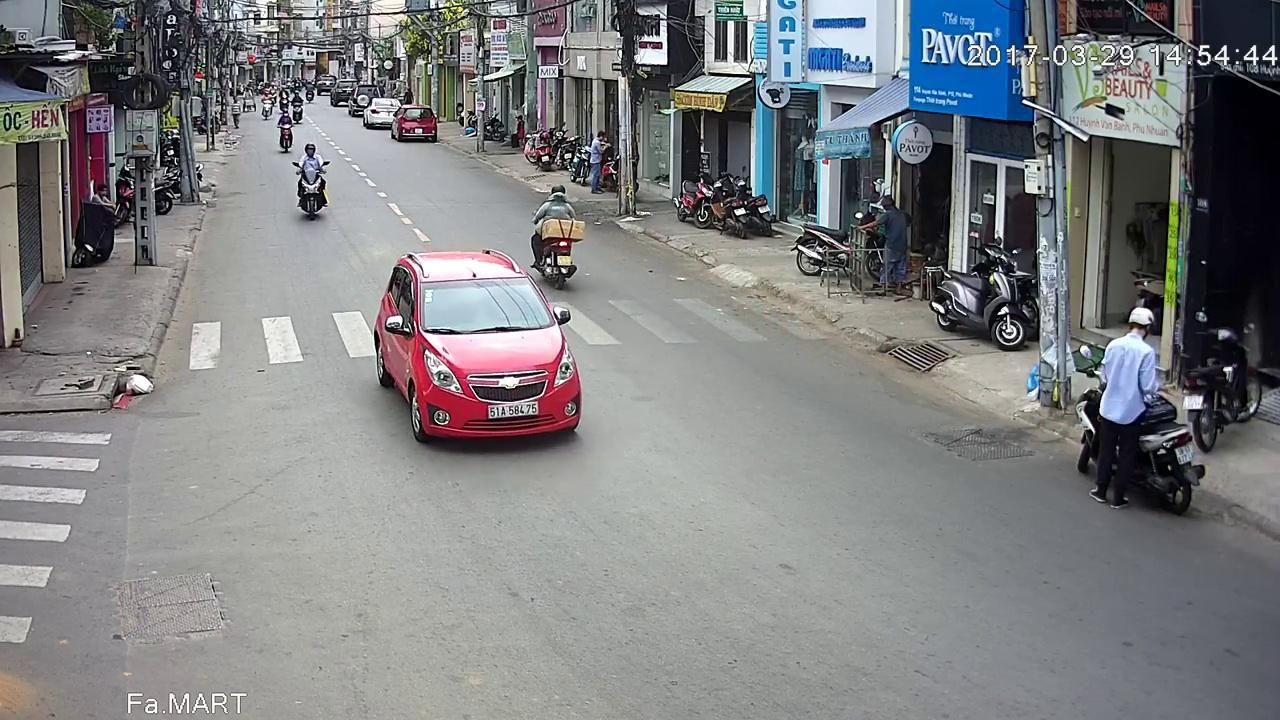xe hoi: (369, 241, 596, 440), (391, 104, 438, 143)
xe may: (1077, 312, 1202, 525), (528, 182, 586, 286), (296, 144, 334, 222), (278, 109, 297, 153)
